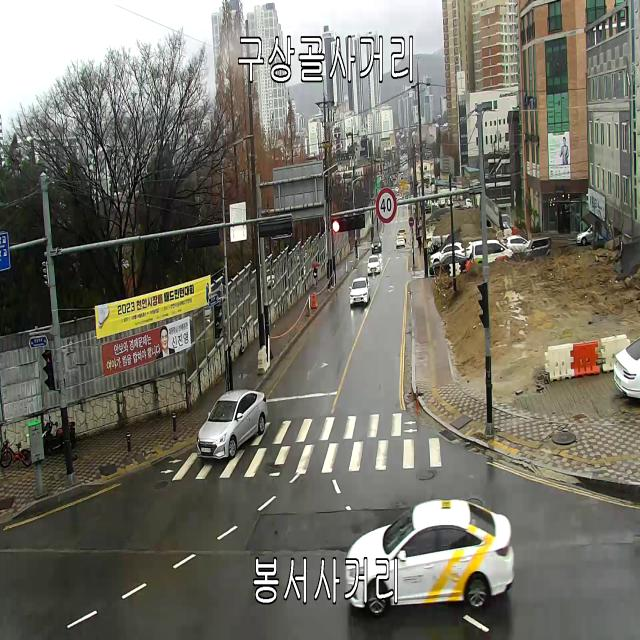Car: (345, 500, 515, 622), (196, 390, 268, 458), (613, 336, 640, 399), (472, 240, 514, 263), (429, 253, 467, 276), (430, 243, 466, 265), (349, 277, 370, 306), (576, 223, 603, 245), (524, 235, 552, 255), (504, 235, 529, 251), (426, 208, 450, 223), (466, 240, 482, 259), (366, 255, 380, 274), (454, 198, 472, 208), (371, 238, 382, 254), (397, 229, 406, 241), (396, 236, 404, 247), (437, 197, 445, 207), (425, 205, 431, 212), (448, 197, 453, 205)
